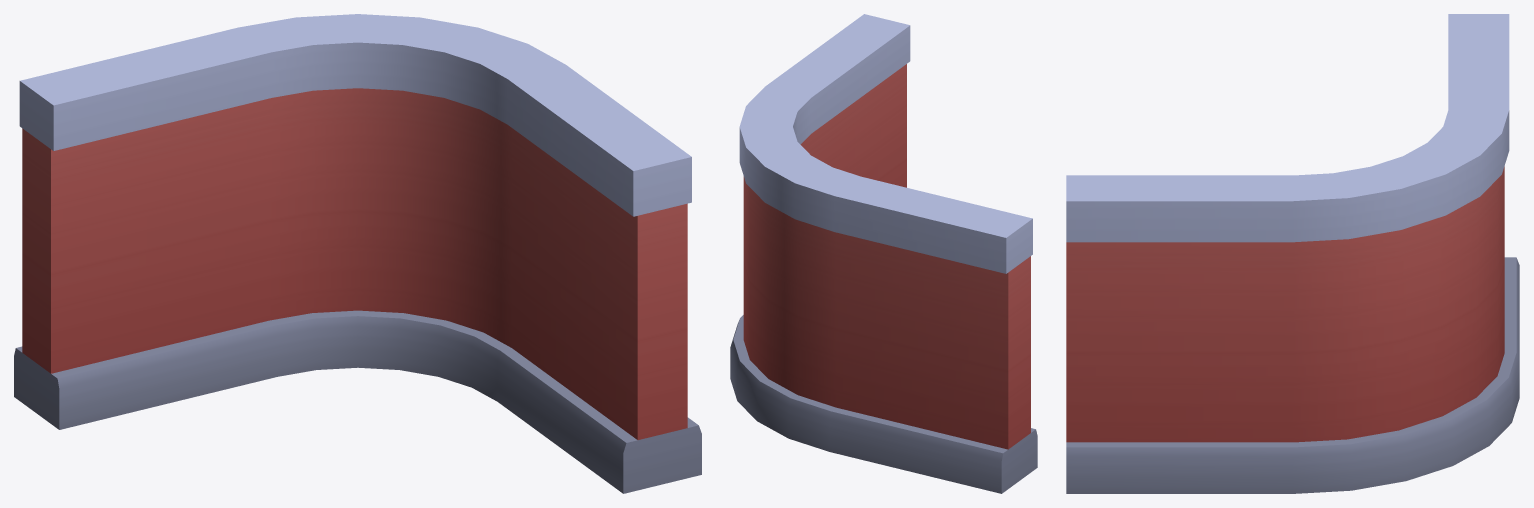
File: brick-wall-curve-small.glb
The picture shows the model from 3 angles, left to right: view 1: azimuth 30°, elevation 25°; view 2: azimuth 150°, elevation 25°; view 3: azimuth 270°, elevation 25°; orthographic projection. The views are drawn at different scales.
Visible parts, largest first — view 1: Asset3DLoader.sceneRoot; view 2: Asset3DLoader.sceneRoot; view 3: Asset3DLoader.sceneRoot.
Part boxes in pixels (x1,y1,x2,y2): Asset3DLoader.sceneRoot: [14, 14, 701, 493]; Asset3DLoader.sceneRoot: [730, 14, 1037, 493]; Asset3DLoader.sceneRoot: [1066, 14, 1519, 493].
Size of the model in its own units: 1 by 0.7019 by 1.
1 material, 1 textured.
